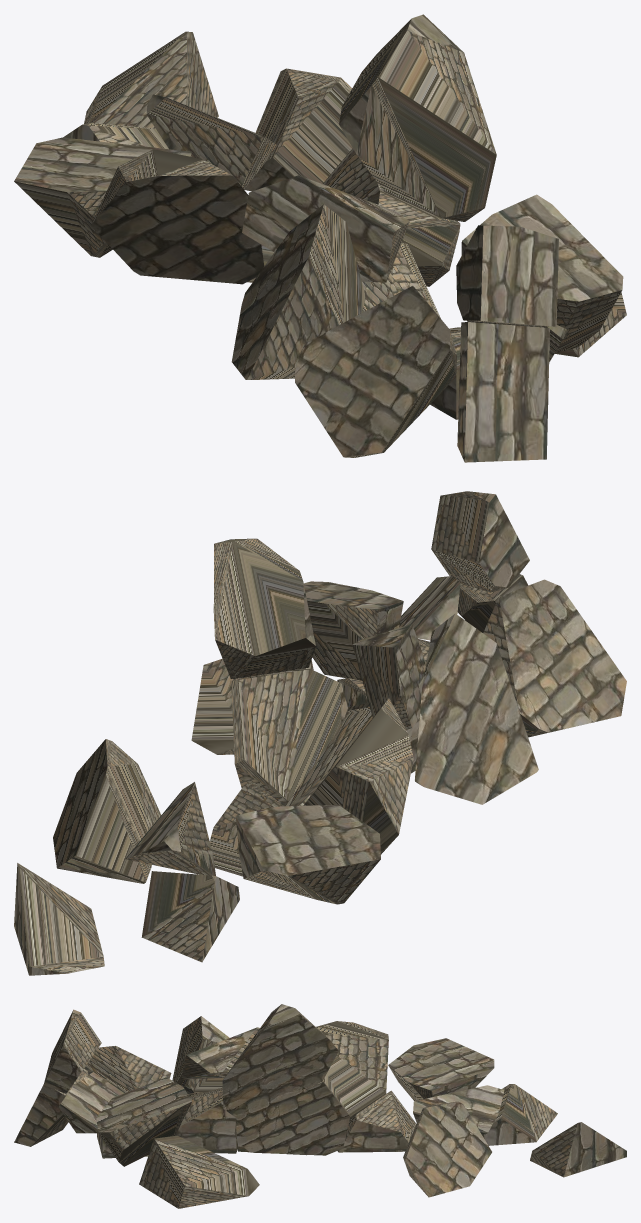
The model's file is BreakWallSmall_000012.obj.
The picture shows the model from 3 angles, top to bottom: view 1: azimuth 30°, elevation 25°; view 2: azimuth 150°, elevation 25°; view 3: azimuth 270°, elevation 25°; orthographic projection. The views are drawn at different scales.
Visible parts, largest first — view 1: Cube.002_cell.003_Cube.002_cell.002, Cube.002_cell.013_Cube.002_cell.012, Cube.002_cell.012_Cube.002_cell.011, Cube.002_cell.017_Cube.002_cell.016, Cube.002_cell.002_Cube.002_cell.001, Cube.002_cell.007_Cube.002_cell.006, Cube.002_cell.014_Cube.002_cell.013, Cube.002_cell.009_Cube.002_cell.008, Cube.002_cell.010_Cube.002_cell.009, Cube.002_cell.004_Cube.002_cell.003, Cube.002_cell.005_Cube.002_cell.004, Cube.002_cell.001_Cube.002_cell.000 (+5 smaller); view 2: Cube.002_cell.017_Cube.002_cell.016, Cube.002_cell.013_Cube.002_cell.012, Cube.002_cell.003_Cube.002_cell.002, Cube.002_cell.015_Cube.002_cell.014, Cube.002_cell.010_Cube.002_cell.009, Cube.002_cell.014_Cube.002_cell.013, Cube.002_cell.012_Cube.002_cell.011, Cube.002_cell.007_Cube.002_cell.006, Cube.002_cell.005_Cube.002_cell.004, Cube.002_cell.018_Cube.002_cell.017, Cube.002_cell.004_Cube.002_cell.003, Cube.002_cell.009_Cube.002_cell.008 (+7 smaller); view 3: Cube.002_cell.003_Cube.002_cell.002, Cube.002_cell.015_Cube.002_cell.014, Cube.002_cell.014_Cube.002_cell.013, Cube.002_cell.016_Cube.002_cell.015, Cube.002_cell.004_Cube.002_cell.003, Cube.002_cell.012_Cube.002_cell.011, Cube.002_cell.010_Cube.002_cell.009, Cube.002_cell_Cube.002_cell.020, Cube.002_cell.005_Cube.002_cell.004, Cube.002_cell.018_Cube.002_cell.017, Cube.002_cell.008_Cube.002_cell.007, Cube.002_cell.007_Cube.002_cell.006 (+6 smaller).
Boxes of the visible parts, left/top/right/bottom form: Cube.002_cell.003_Cube.002_cell.002: left=339, top=14, right=496, bottom=221; Cube.002_cell.013_Cube.002_cell.012: left=295, top=285, right=456, bottom=457; Cube.002_cell.012_Cube.002_cell.011: left=91, top=149, right=264, bottom=284; Cube.002_cell.017_Cube.002_cell.016: left=231, top=204, right=365, bottom=379; Cube.002_cell.002_Cube.002_cell.001: left=457, top=322, right=549, bottom=462; Cube.002_cell.007_Cube.002_cell.006: left=456, top=225, right=558, bottom=326; Cube.002_cell.014_Cube.002_cell.013: left=245, top=68, right=352, bottom=191; Cube.002_cell.009_Cube.002_cell.008: left=242, top=175, right=409, bottom=282; Cube.002_cell.010_Cube.002_cell.009: left=14, top=137, right=191, bottom=257; Cube.002_cell.004_Cube.002_cell.003: left=461, top=194, right=623, bottom=353; Cube.002_cell.005_Cube.002_cell.004: left=84, top=31, right=218, bottom=128; Cube.002_cell.001_Cube.002_cell.000: left=146, top=94, right=277, bottom=189; Cube.002_cell.017_Cube.002_cell.016: left=415, top=613, right=538, bottom=804; Cube.002_cell.013_Cube.002_cell.012: left=483, top=579, right=626, bottom=737; Cube.002_cell.003_Cube.002_cell.002: left=213, top=538, right=315, bottom=678; Cube.002_cell.015_Cube.002_cell.014: left=231, top=669, right=347, bottom=804; Cube.002_cell.010_Cube.002_cell.009: left=235, top=804, right=380, bottom=904; Cube.002_cell.014_Cube.002_cell.013: left=53, top=739, right=161, bottom=883; Cube.002_cell.012_Cube.002_cell.011: left=303, top=698, right=413, bottom=854; Cube.002_cell.007_Cube.002_cell.006: left=431, top=491, right=529, bottom=592; Cube.002_cell.005_Cube.002_cell.004: left=14, top=863, right=104, bottom=975; Cube.002_cell.018_Cube.002_cell.017: left=141, top=871, right=239, bottom=962; Cube.002_cell.004_Cube.002_cell.003: left=303, top=581, right=403, bottom=680; Cube.002_cell.009_Cube.002_cell.008: left=352, top=624, right=426, bottom=729; Cube.002_cell.003_Cube.002_cell.002: left=222, top=1004, right=338, bottom=1117; Cube.002_cell.015_Cube.002_cell.014: left=234, top=1081, right=350, bottom=1155; Cube.002_cell.014_Cube.002_cell.013: left=403, top=1101, right=491, bottom=1197; Cube.002_cell.016_Cube.002_cell.015: left=139, top=1135, right=259, bottom=1208; Cube.002_cell.004_Cube.002_cell.003: left=96, top=1077, right=191, bottom=1166; Cube.002_cell.012_Cube.002_cell.011: left=316, top=1021, right=388, bottom=1120; Cube.002_cell.010_Cube.002_cell.009: left=388, top=1038, right=494, bottom=1100; Cube.002_cell_Cube.002_cell.020: left=337, top=1090, right=416, bottom=1152; Cube.002_cell.005_Cube.002_cell.004: left=530, top=1122, right=626, bottom=1177; Cube.002_cell.018_Cube.002_cell.017: left=482, top=1084, right=557, bottom=1145; Cube.002_cell.008_Cube.002_cell.007: left=175, top=1087, right=237, bottom=1153; Cube.002_cell.007_Cube.002_cell.006: left=43, top=1009, right=101, bottom=1093.
Size of the model in its own units: 22.27 by 13.76 by 46.88.
Materials: 2 (2 with a texture image).
